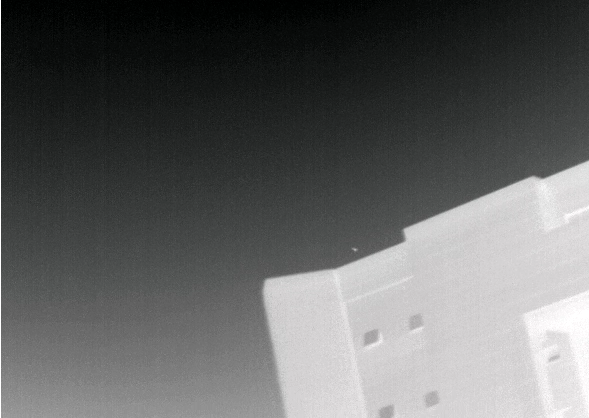dim target: (350, 245, 362, 253)
